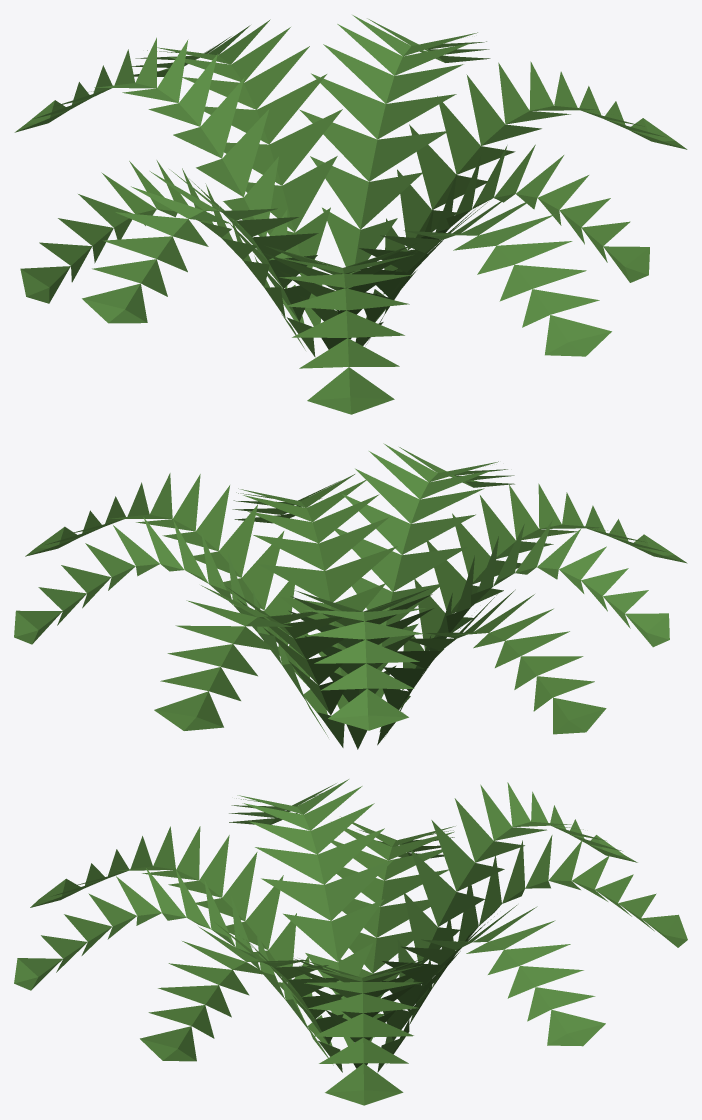
File: mdvl_nature_fern_01.glb
3 views of the same model, one above another, from view 1: azimuth 30°, elevation 25°; view 2: azimuth 150°, elevation 25°; view 3: azimuth 270°, elevation 25° (orthographic). The views are drawn at different scales.
Visible parts, largest first — view 1: mdvl_nature_fern_01; view 2: mdvl_nature_fern_01; view 3: mdvl_nature_fern_01.
Boxes of the visible parts, bbox=[...] form: mdvl_nature_fern_01: bbox=[14, 15, 687, 414]; mdvl_nature_fern_01: bbox=[14, 443, 687, 749]; mdvl_nature_fern_01: bbox=[14, 779, 687, 1105].
Size of the model in its own units: 1.26 by 0.4645 by 1.31.
Materials: 1 (1 with a texture image).
